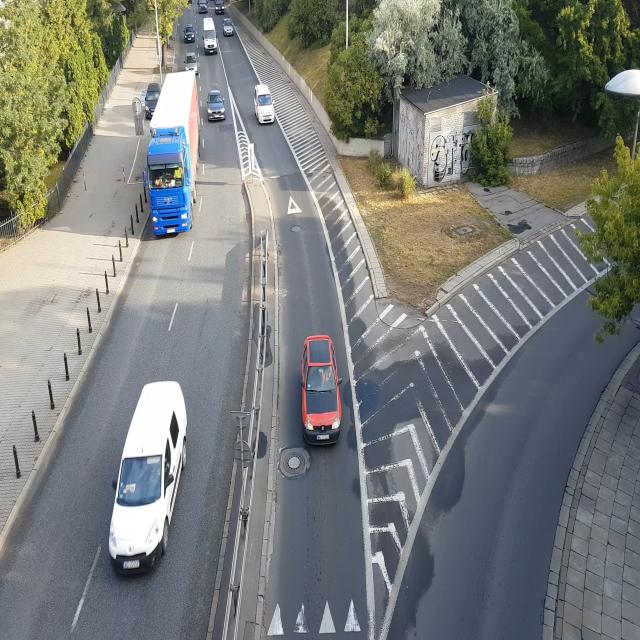car: (106, 373, 194, 569), (297, 332, 346, 444), (252, 80, 276, 126), (204, 88, 228, 125), (203, 16, 219, 60), (142, 79, 158, 112), (185, 55, 201, 83), (221, 16, 235, 42), (183, 22, 196, 42), (196, 0, 210, 14), (214, 0, 225, 14)
truck: (147, 68, 194, 238)
